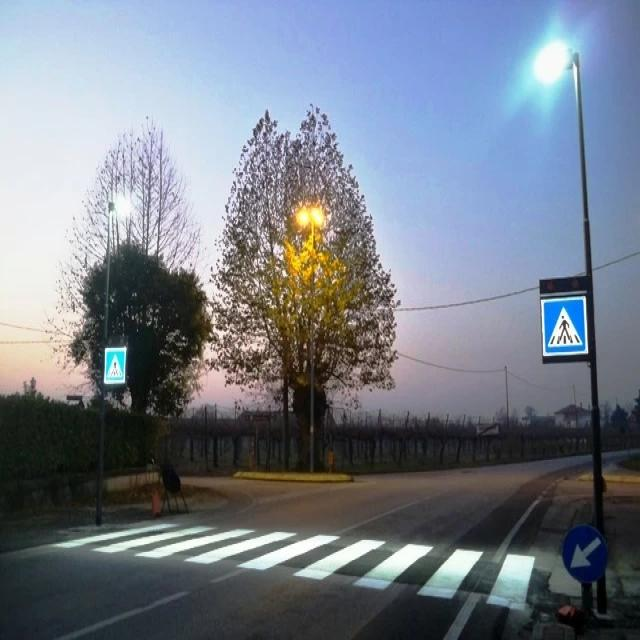Pedestrian crosswalk: (55, 517, 537, 610), (540, 299, 590, 357), (105, 346, 126, 383)
